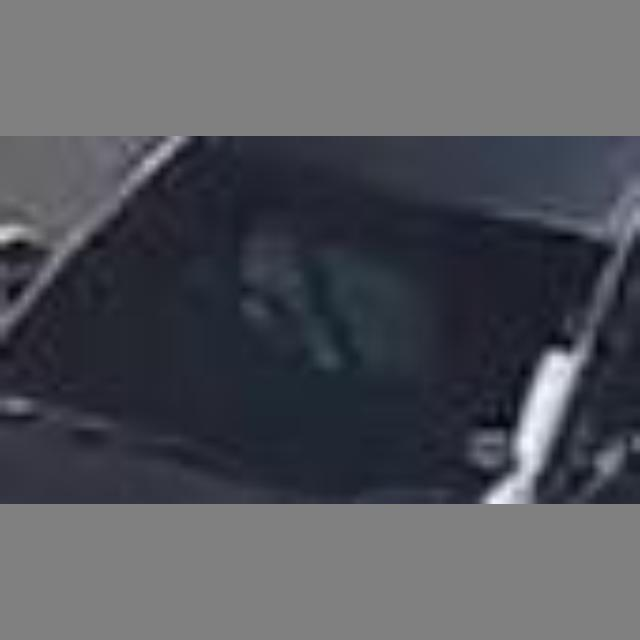pakai: (173, 189, 459, 437)
